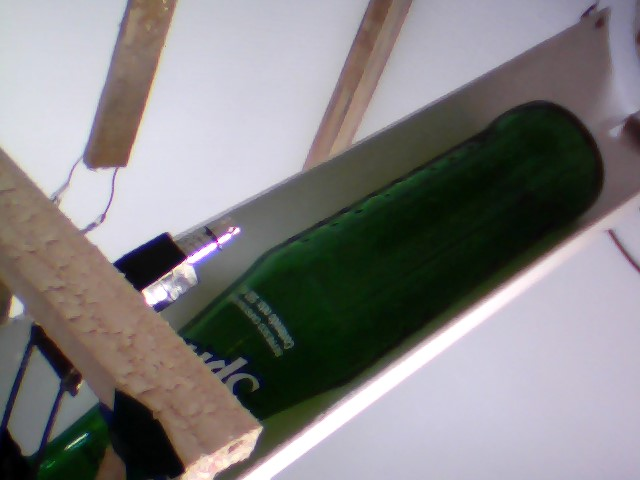vidrio: (172, 95, 610, 417)
